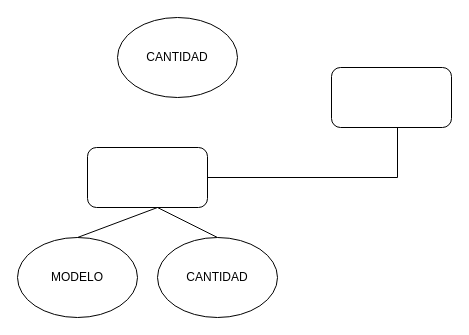
Some shapes in this 469 by 335 pixel diagram are drawn without their labels. The centre of each missing label's shape, as x and y in pixels:
"EQ" goes at [391,97].
"RAM" goes at [147,177].
